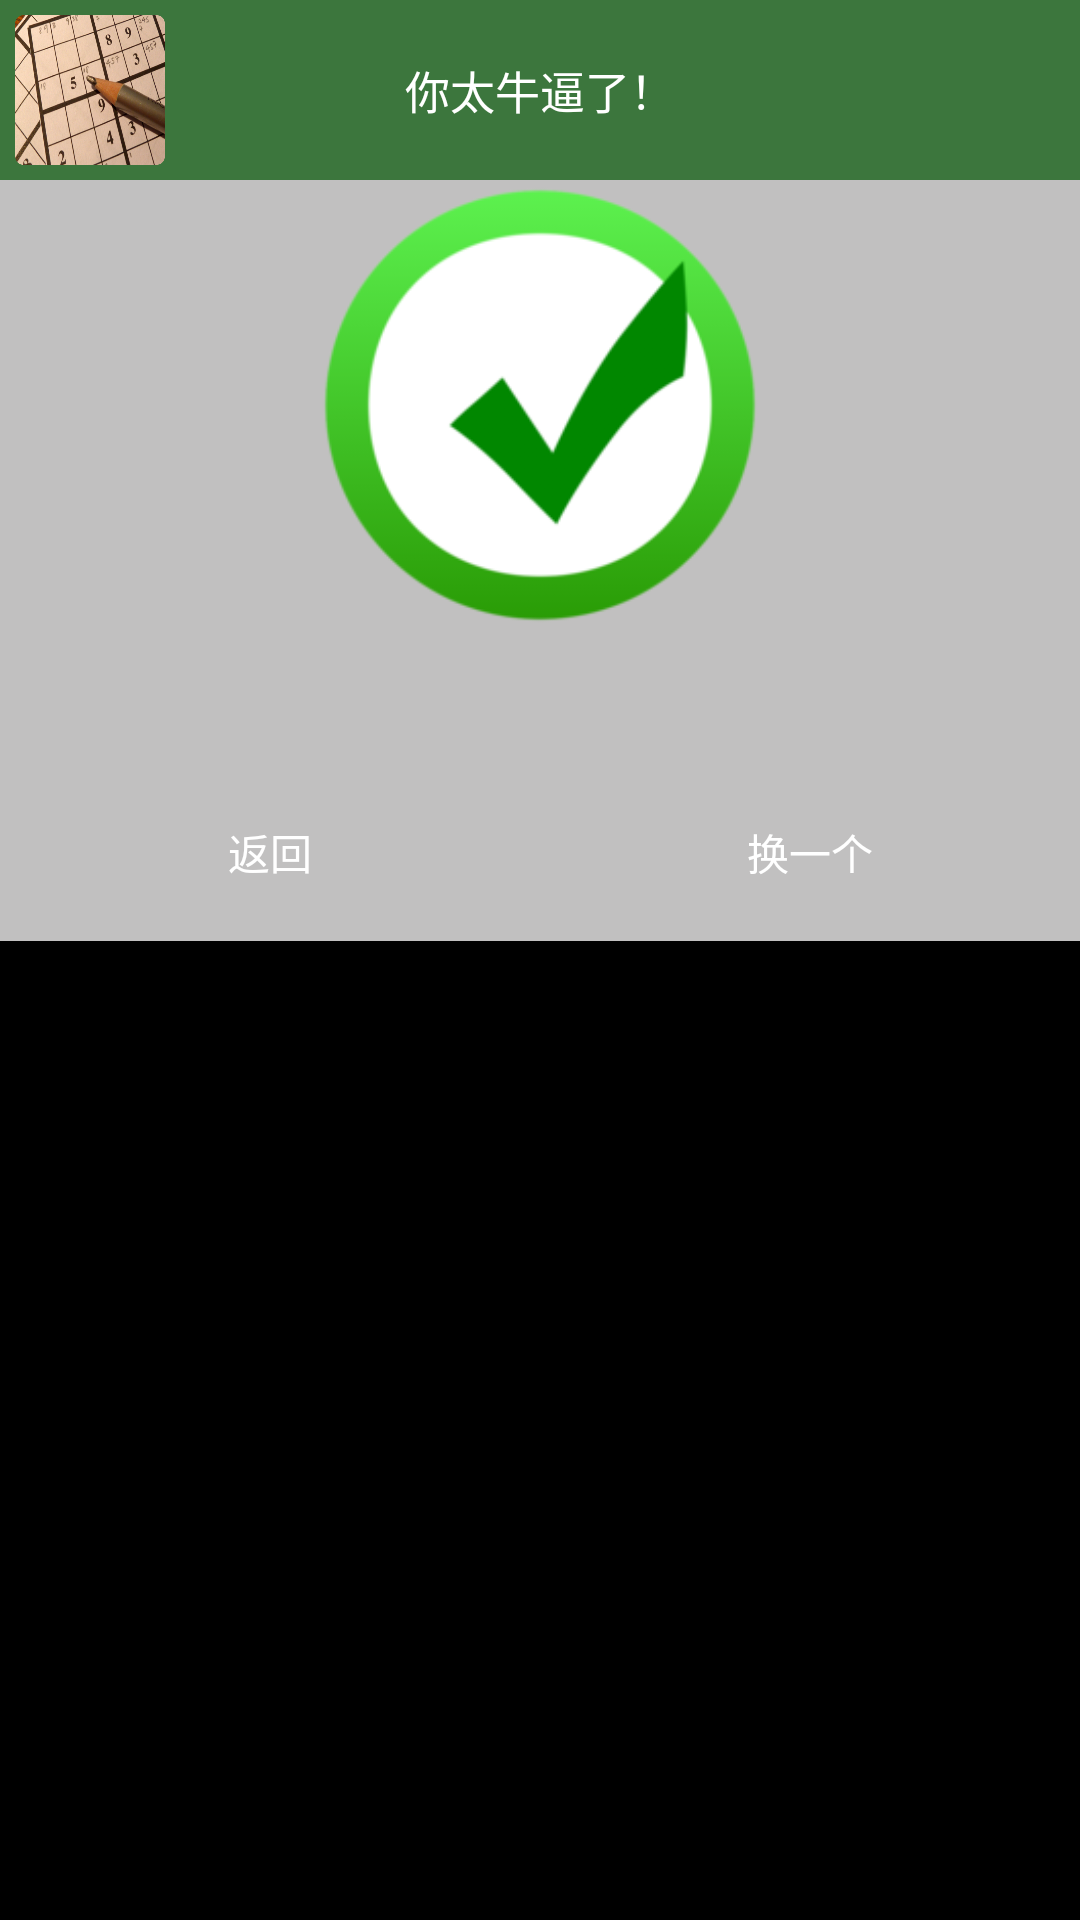

Icons on this 1080*1920 Android screen, each with the point to tap as [x,y]:
sudoku: [90,90]
